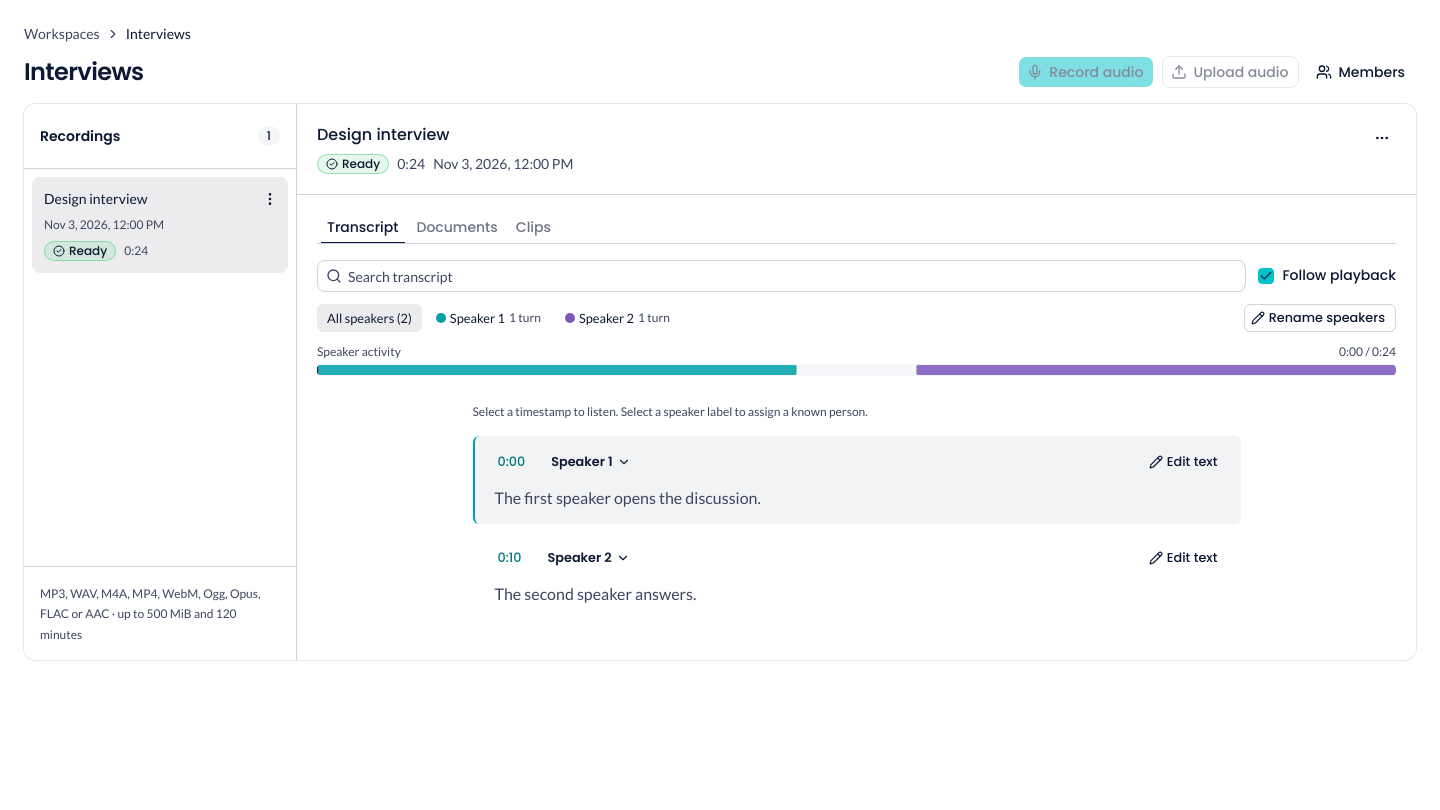
Test: keeps the original diarization label when assigning all turns to a person
Later steps or results of the test are not shown.
Click the button with aria-label "Assign Speaker 1".
click(589, 462)  # box top-left (540, 448), bottom-right (638, 476)
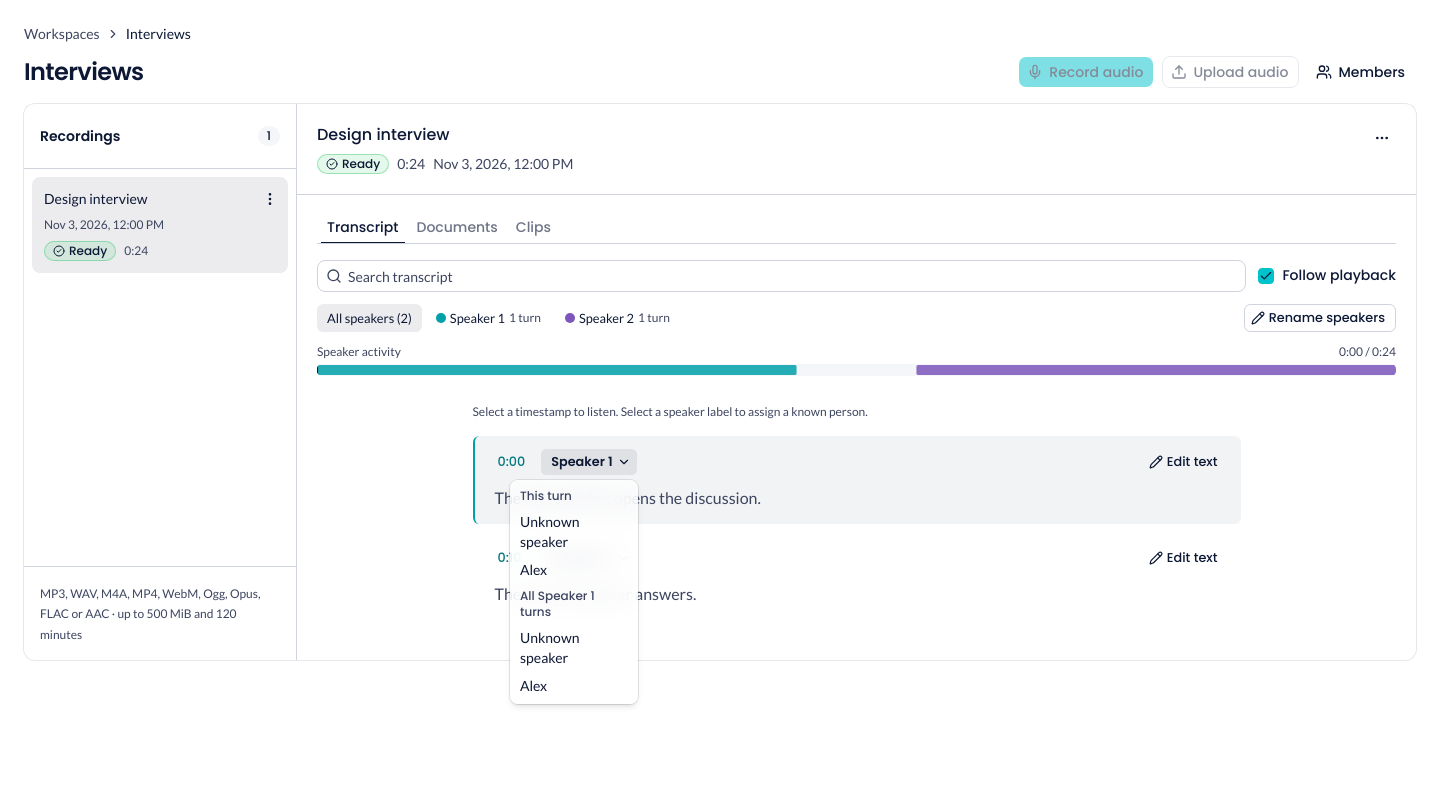
Check: the text "All Speaker 1 turns" is shown, box top-left (520, 587), bottom-right (595, 620)
